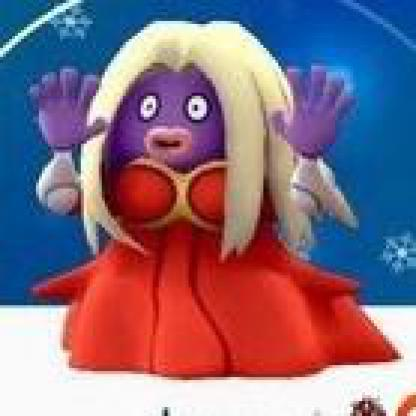Jynx: (1, 1, 414, 414)
